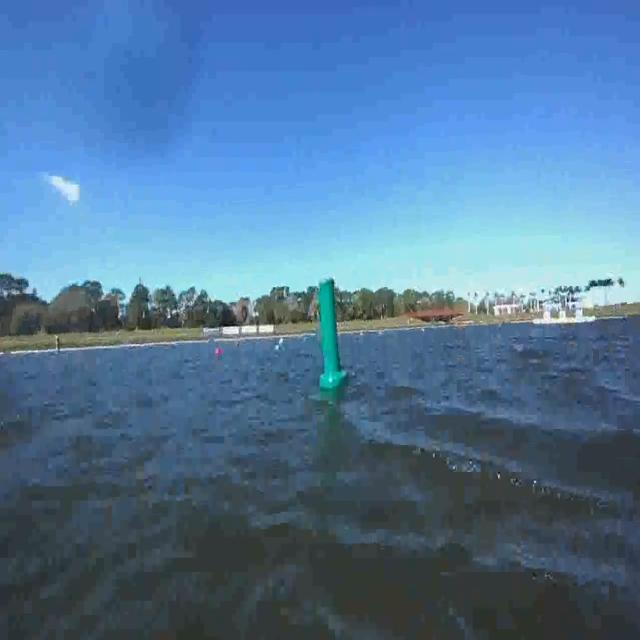green-column-buoy: (316, 278, 348, 392)
